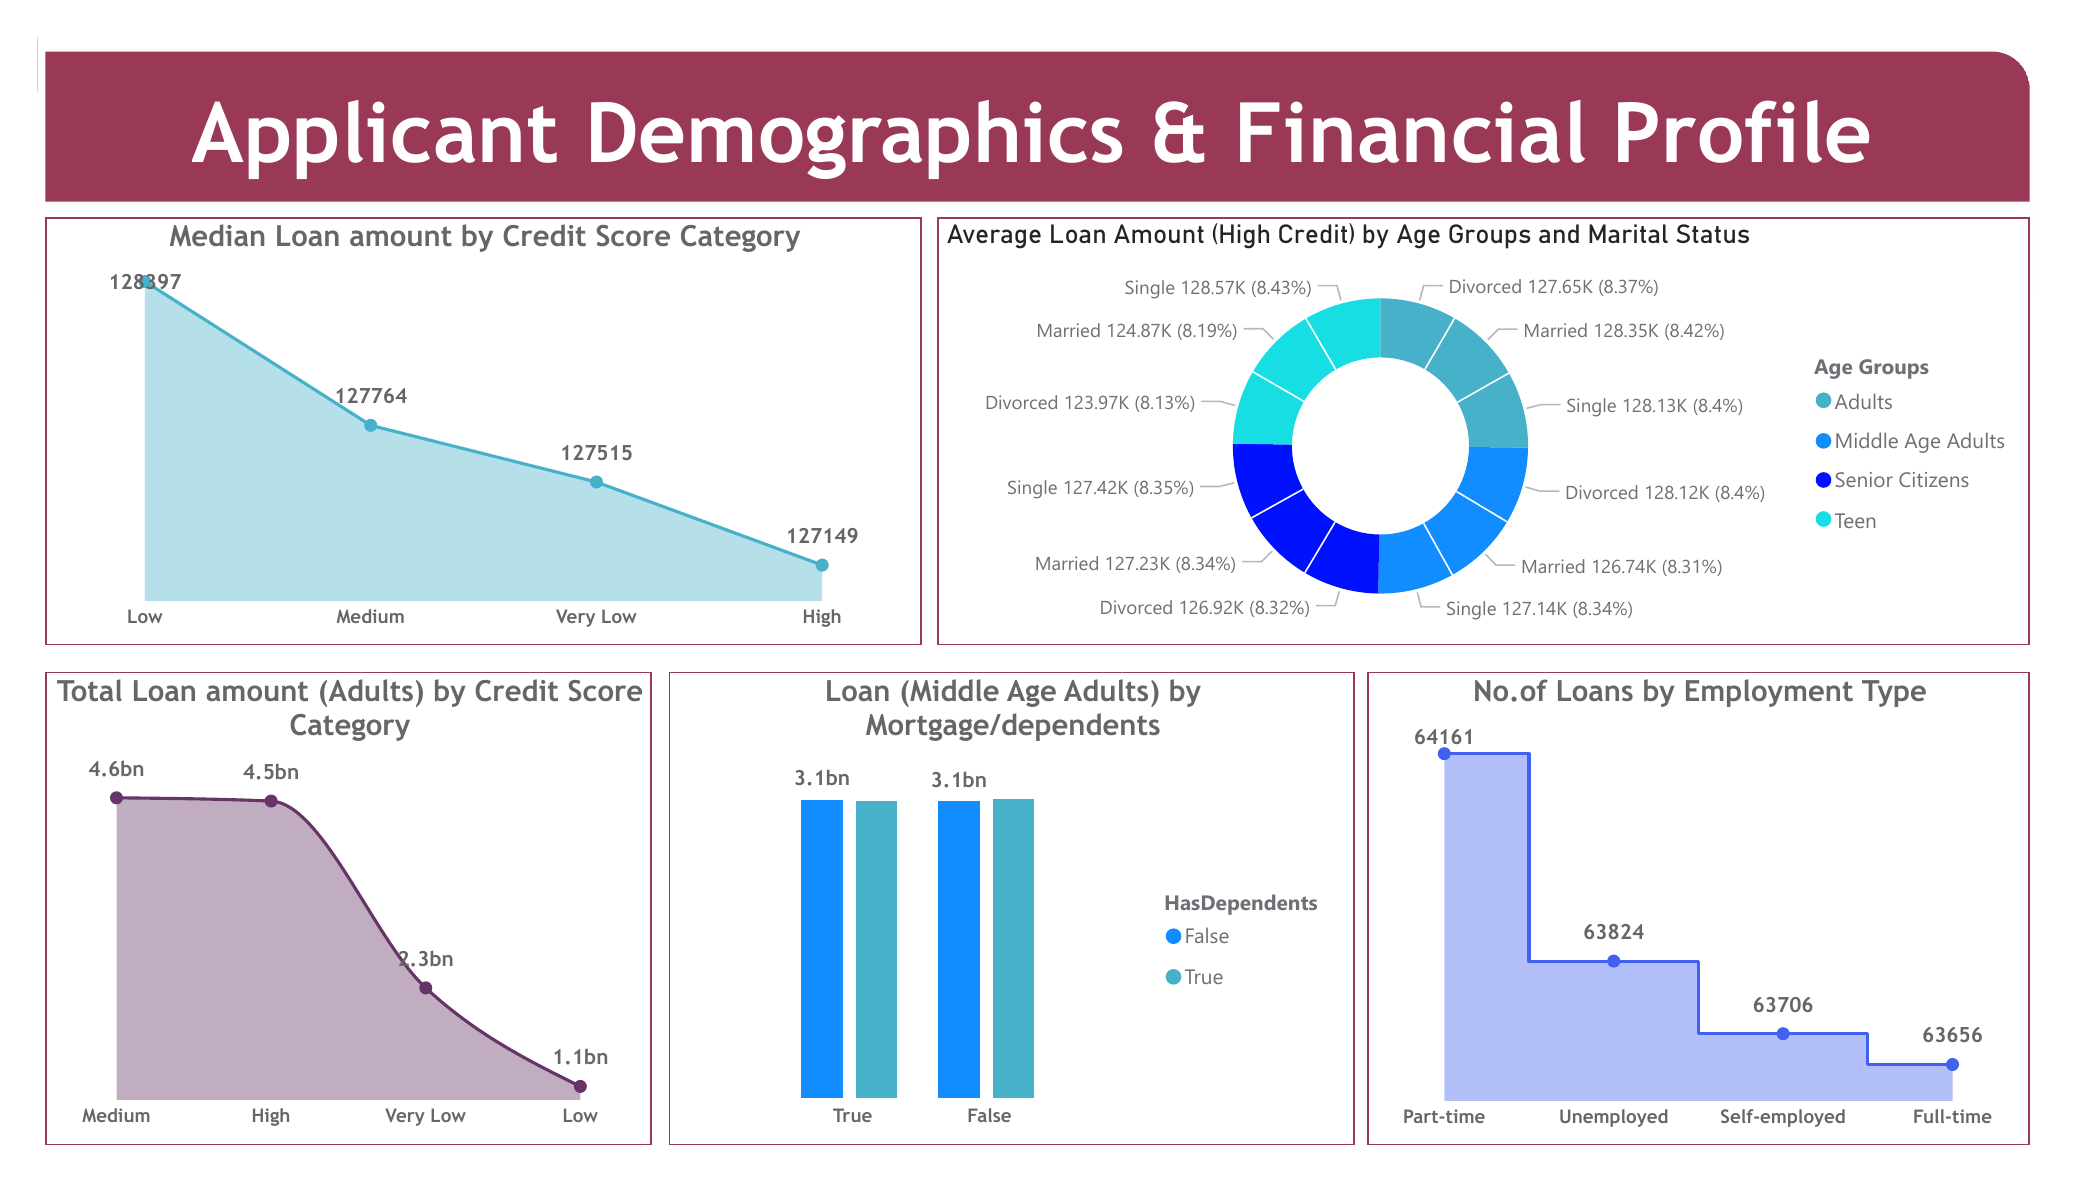

What the dashboard file says about the page in this screenshot:
{"tool":"powerbi","page":{"name":"Applicant Demographics & Financial Profile","canvas":[1280,720],"ordinal":1},"visuals":[{"type":"shape","box":[4.6,9.1,1270,95.6],"z":0},{"type":"lineChart","title":"Median Loan amount by Credit Score Category","fields":{"Y":["Measure 2.Median by Credit Score bins"],"Category":["Loan_default.Credit Score Bins"]},"box":[4.6,114.9,561,274.3],"z":1000},{"type":"donutChart","title":"Average Loan Amount (High Credit) by Age Groups and Marital Status","fields":{"Category":["Loan_default.Age Groups"],"Series":["Loan_default.MaritalStatus"],"Y":["Measure 2.Average loan amount for high credit"]},"box":[575.8,114.9,698.7,274.3],"z":2000},{"type":"lineChart","title":"Total Loan amount (Adults) by Credit Score Category","fields":{"Category":["Loan_default.Credit Score Bins"],"Y":["Measure 2.Total Loan (Credit Bins)"]},"box":[4.6,406.3,388,302.7],"z":3000},{"type":"clusteredColumnChart","title":"Loan (Middle Age Adults) by Mortgage/dependents","fields":{"Y":["Measure 2.Total Loan for middle age adults"],"Category":["Loan_default.HasMortgage"],"Series":["Loan_default.HasDependents"]},"box":[404,406.3,439.3,302.7],"z":4000},{"type":"lineChart","title":"No.of Loans by Employment Type","fields":{"Category":["Loan_default.EmploymentType"],"Y":["CountNonNull(Loan_default.LoanID)"]},"box":[851.2,406.3,423.3,302.7],"z":5000}]}

Visuals, with their boxes on the page's 1280x720 design canvas (x1, y1, x2, y2). These are canvas units, not pixel positions in the 2075x1200 screenshot, which may show the page scaled, cropped or inside an application window:
shape: detection(5, 9, 1275, 105)
"Median Loan amount by Credit Score Category" lineChart: detection(5, 115, 566, 389)
"Average Loan Amount (High Credit) by Age Groups and Marital Status" donutChart: detection(576, 115, 1274, 389)
"Total Loan amount (Adults) by Credit Score Category" lineChart: detection(5, 406, 393, 709)
"Loan (Middle Age Adults) by Mortgage/dependents" clusteredColumnChart: detection(404, 406, 843, 709)
"No.of Loans by Employment Type" lineChart: detection(851, 406, 1274, 709)
